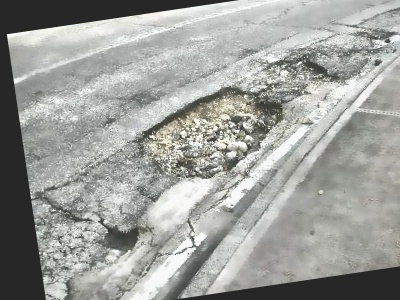pothole: (128, 74, 297, 190), (262, 47, 343, 93), (99, 220, 145, 255), (357, 25, 398, 52), (386, 1, 400, 19)
